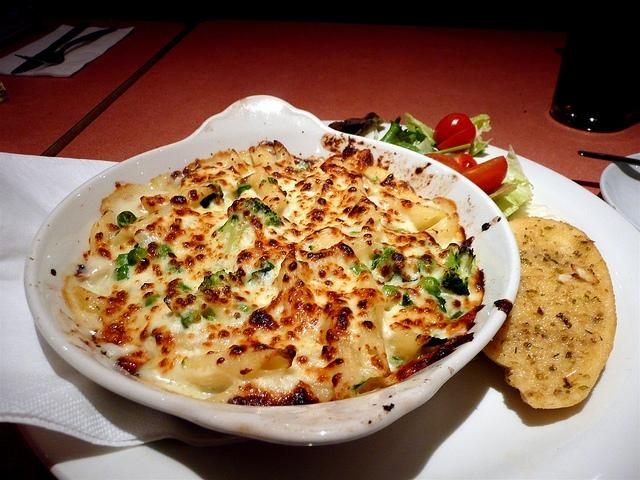broccoli: (218, 198, 282, 234), (441, 249, 470, 296), (421, 276, 446, 312), (371, 246, 395, 271), (204, 270, 232, 288), (128, 248, 148, 266), (180, 310, 198, 328), (156, 244, 173, 259)
lettuce: (328, 112, 387, 138), (379, 116, 421, 152), (494, 183, 534, 220), (468, 114, 496, 156), (404, 112, 436, 146), (412, 138, 433, 154)
tomato: (458, 156, 508, 192), (433, 113, 474, 147), (436, 125, 477, 154), (424, 153, 464, 174), (453, 153, 478, 172)
